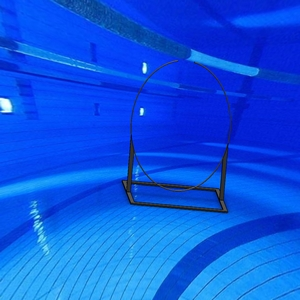circle: (121, 57, 233, 216)
